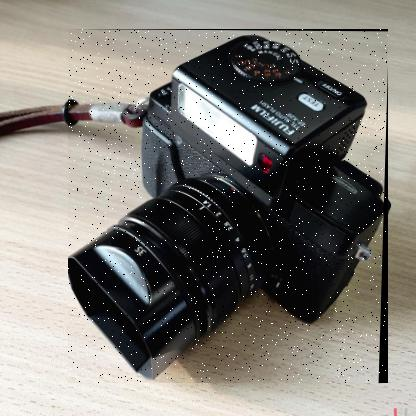Camera: (69, 30, 390, 385)
